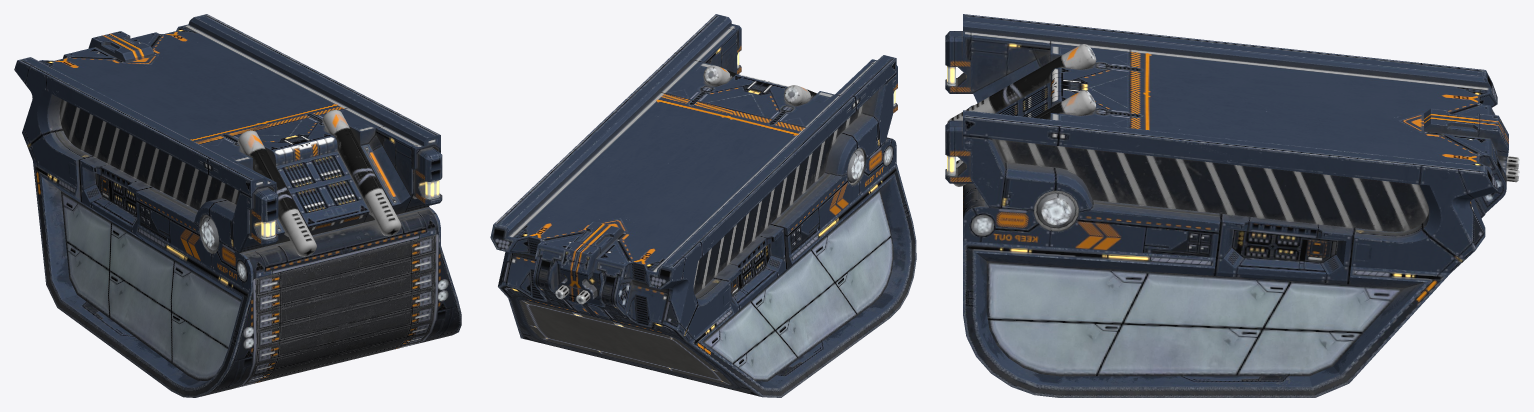
3 renders of one model, left to right at view 1: azimuth 30°, elevation 25°; view 2: azimuth 150°, elevation 25°; view 3: azimuth 270°, elevation 25°, orthographic. The views are drawn at different scales.
Parts seen in each view (by area): view 1: shuttle_low; view 2: shuttle_low; view 3: shuttle_low.
Boxes of the visible parts, x1,y1,x2,y2 form: shuttle_low: (14, 14, 461, 397); shuttle_low: (490, 14, 916, 397); shuttle_low: (945, 14, 1519, 397).
Bounding box in the file's own units: 219 × 186 × 371.
1 material, 1 textured.
